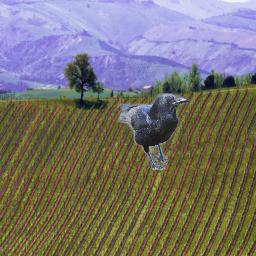Crow: (118, 93, 189, 170)
